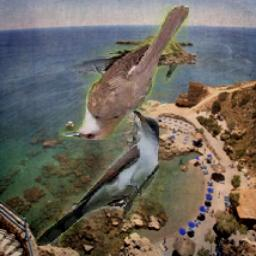Cuckoo: (60, 7, 190, 141), (35, 111, 159, 247)
